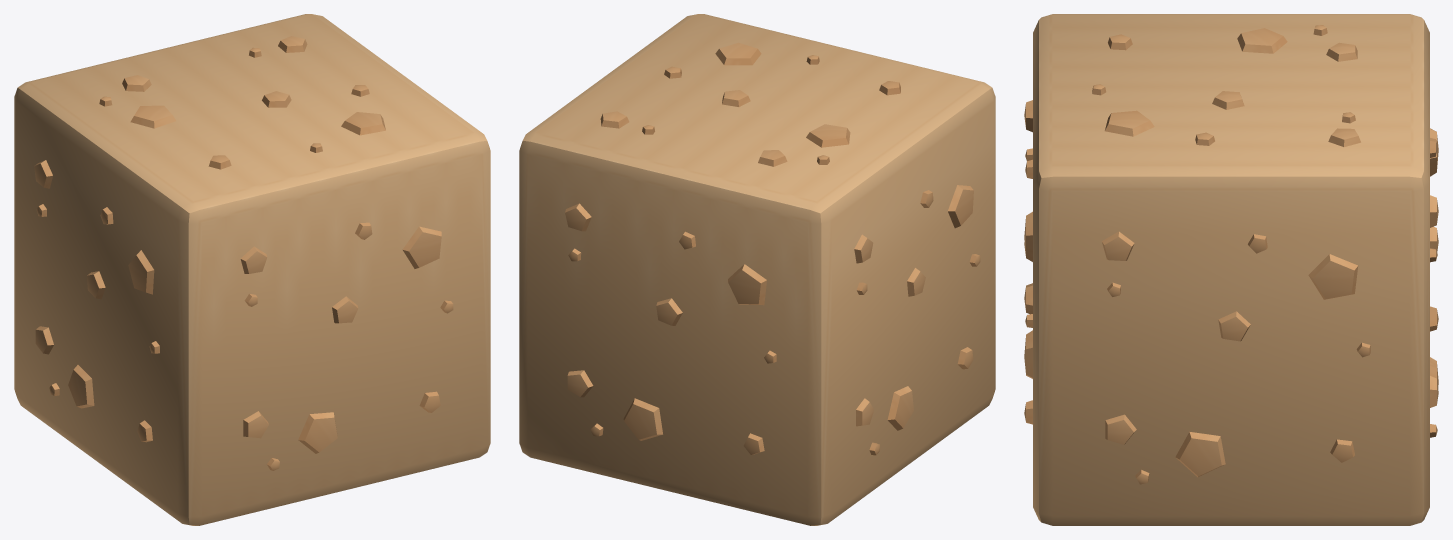
Rendered from sand-a.glb.
3 renders of one model, left to right at view 1: azimuth 30°, elevation 25°; view 2: azimuth 150°, elevation 25°; view 3: azimuth 270°, elevation 25°, orthographic. The views are drawn at different scales.
Parts seen in each view (by area): view 1: sand_A; view 2: sand_A; view 3: sand_A.
Boxes of the visible parts, x1=… form: sand_A: x1=14, y1=14, x2=490, y2=525; sand_A: x1=519, y1=14, x2=995, y2=525; sand_A: x1=1024, y1=14, x2=1438, y2=525.
Size of the model in its own units: 2.09 by 2.09 by 2.09.
1 material, 1 textured.
